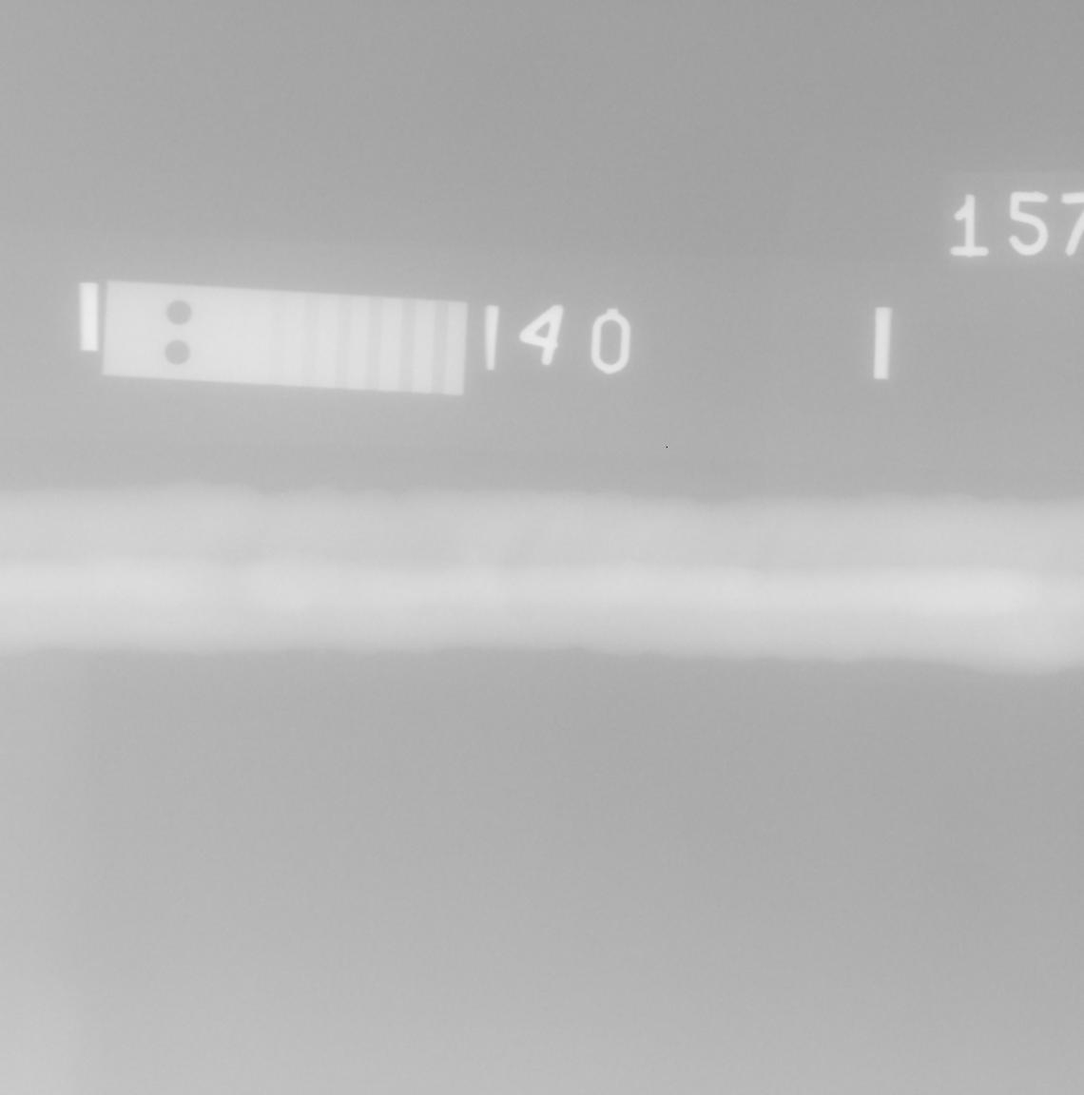Reference Standard 2: (102, 280, 466, 396)
